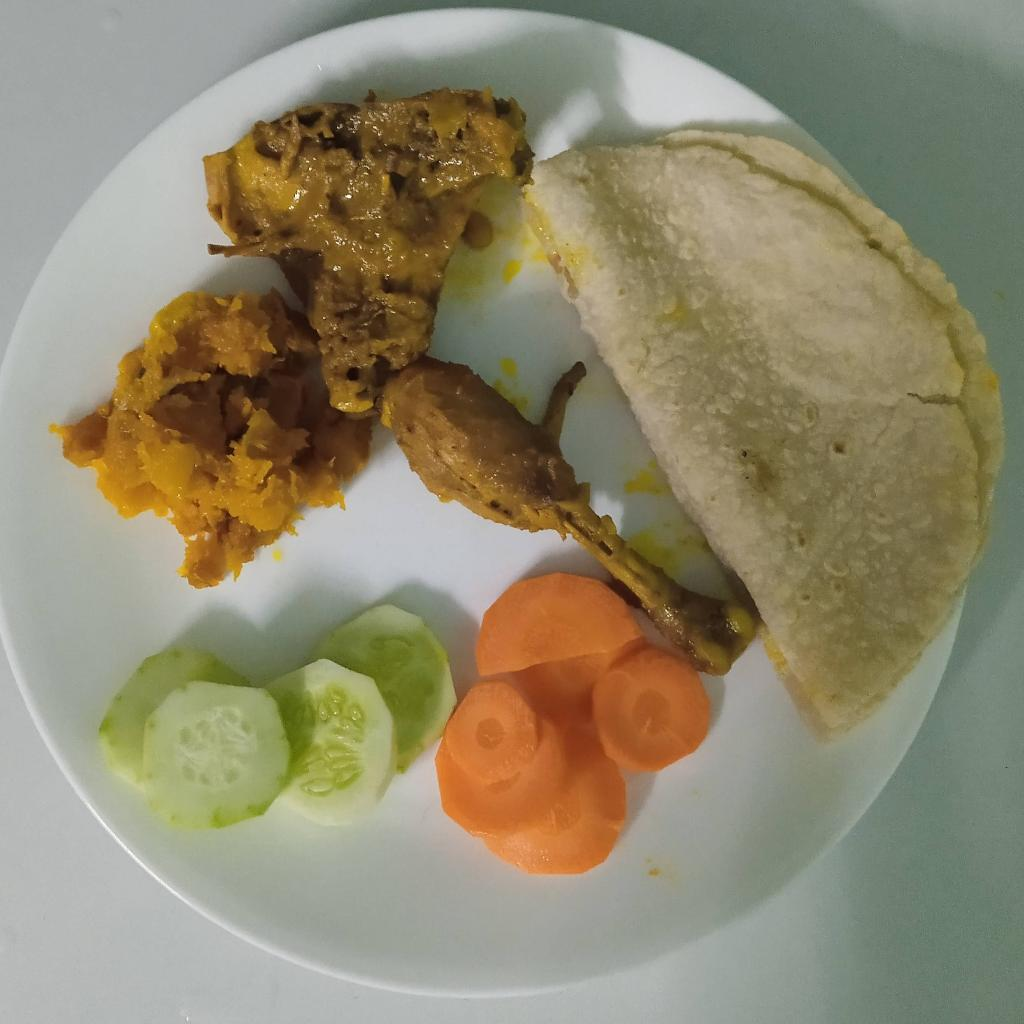carrot: (434, 571, 716, 877)
chicken: (198, 93, 744, 669)
cucumber: (96, 604, 454, 827)
kumra-vaji: (64, 291, 364, 594)
ruti: (524, 134, 1005, 744)
